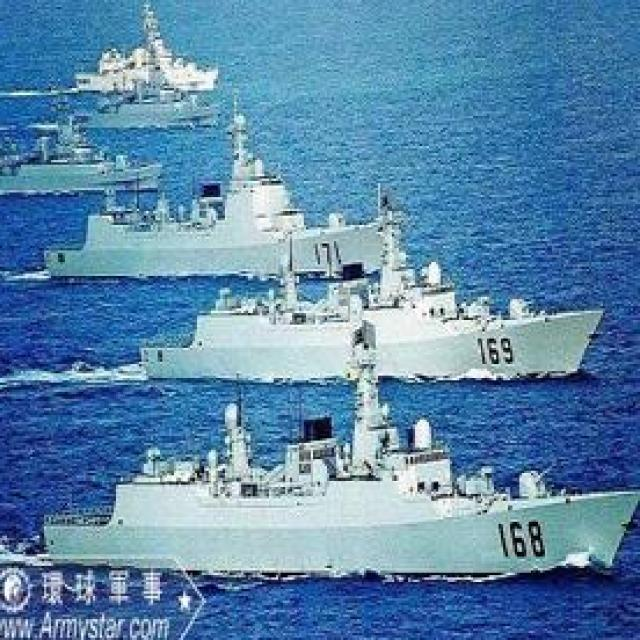navalvessels: (41, 375, 640, 572), (132, 236, 598, 379), (36, 137, 392, 272), (0, 107, 153, 190), (74, 11, 222, 91), (86, 61, 225, 127)
